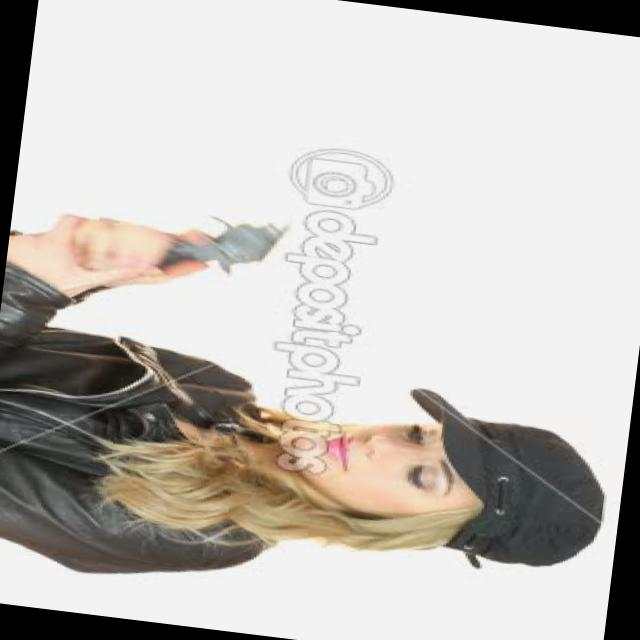handgun: (134, 184, 306, 294)
